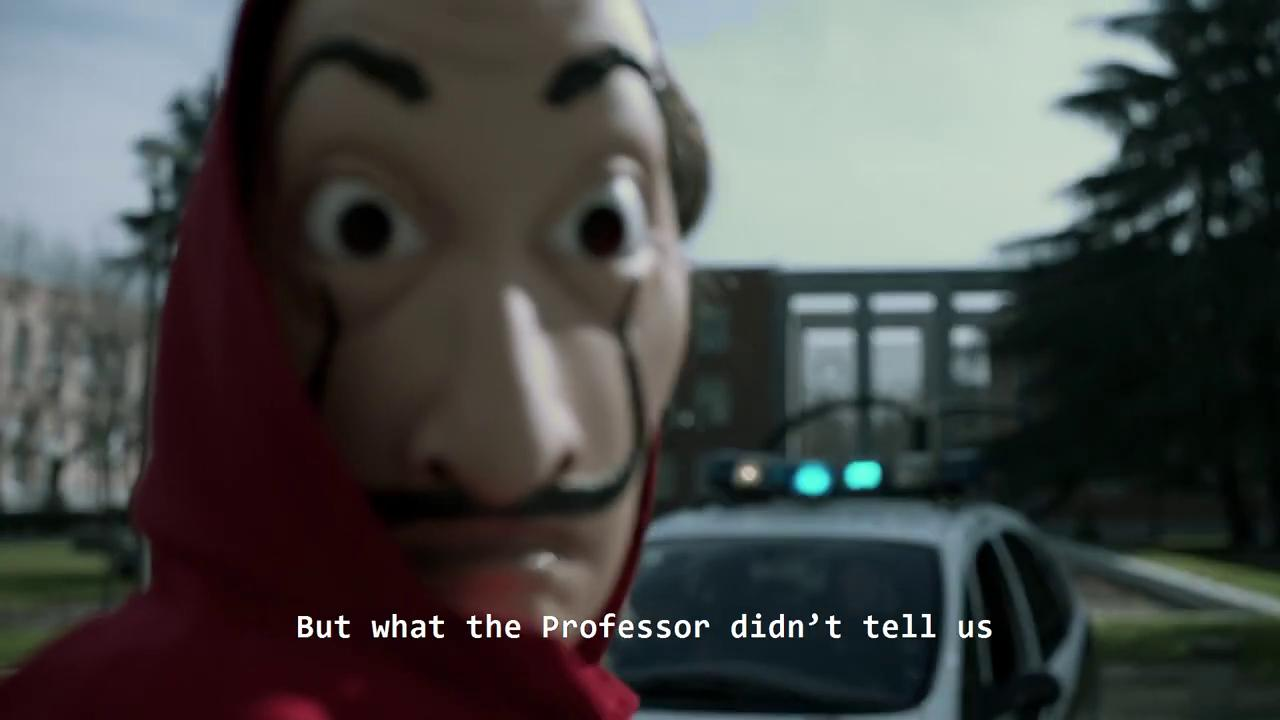criminal: (0, 0, 715, 720)
